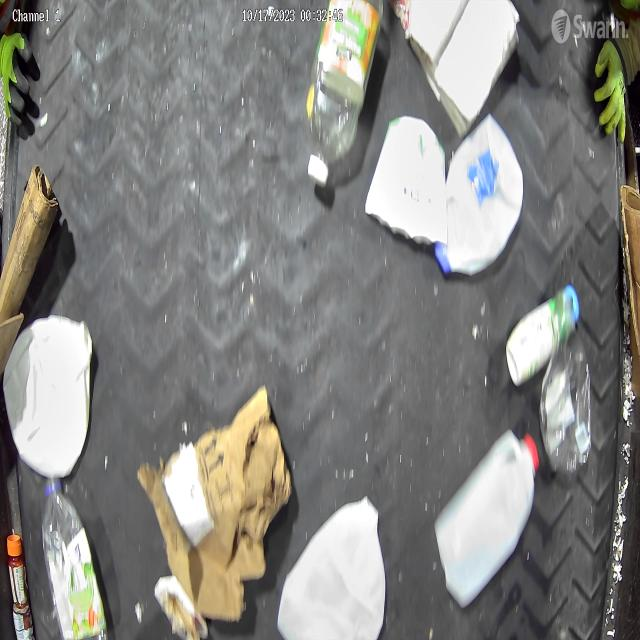milk_jug: (435, 427, 540, 606), (276, 493, 386, 639), (4, 309, 95, 479), (431, 113, 524, 279)
plastic_bottle: (307, 2, 380, 179), (41, 476, 108, 638), (542, 288, 594, 474)
